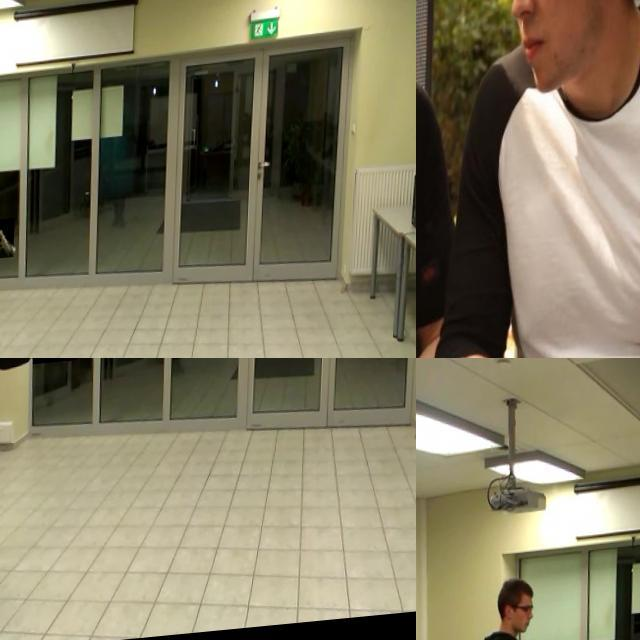-: (416, 206, 455, 358)
gun-knife-thesis - v11 Yolov5 augmented: (35, 358, 80, 381), (0, 222, 18, 263)
